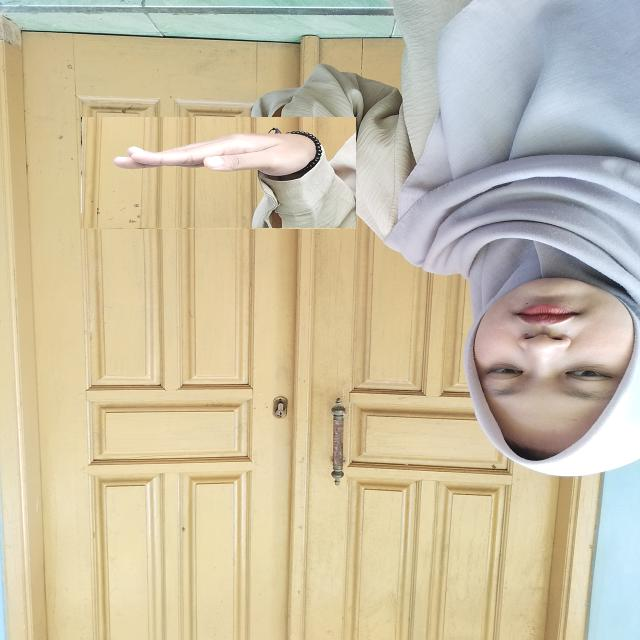adik: (81, 117, 356, 229)
